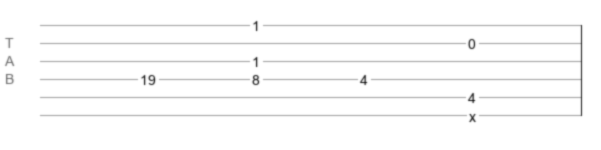0: (468, 36, 476, 46)
1: (252, 18, 260, 28), (252, 54, 260, 64)
19: (140, 72, 156, 82)
4: (360, 72, 368, 82), (468, 90, 476, 100)
8: (252, 72, 260, 82)
x: (469, 109, 476, 117)
